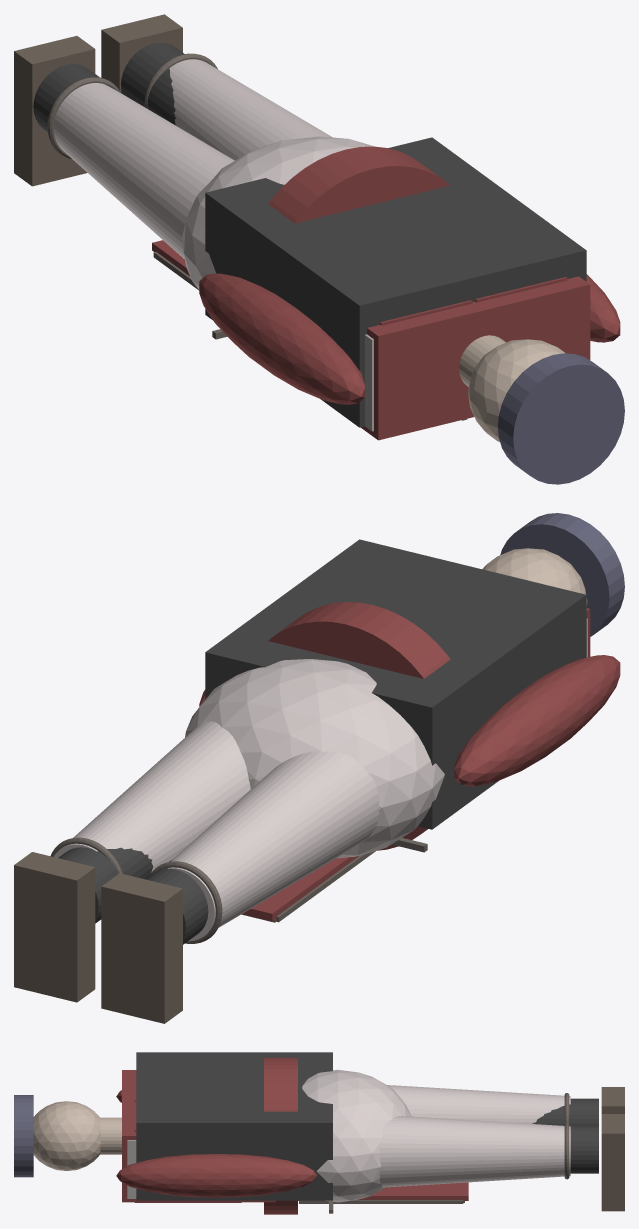
Rendered from MASTER_062_STAGE3_DETAIL.glb.
3 views of the same model, one above another, from view 1: azimuth 30°, elevation 25°; view 2: azimuth 150°, elevation 25°; view 3: azimuth 270°, elevation 25° (orthographic). The views are drawn at different scales.
Parts seen in each view (by area): view 1: slot_outerwear__xhybe, slot_upper_inner__këmishë, slot_lower_main__dimi_L, slot_headwear__mbulesë_koke, slot_upper_inner_sleeve_L, slot_lower_main__dimi_R, slot_waist__brez, slot_footwear__opinga_L, slot_lower_main__dimi_hip, mannequin_head, slot_footwear__opinga_R, slot_legwear__çorape_R (+5 smaller); view 2: slot_outerwear__xhybe, slot_lower_main__dimi_hip, slot_lower_main__dimi_L, slot_lower_main__dimi_R, slot_footwear__opinga_L, slot_footwear__opinga_R, slot_upper_inner_sleeve_L, slot_waist__brez, slot_headwear__mbulesë_koke, mannequin_head, slot_legwear__çorape_R, slot_apron_front__përparëse (+3 smaller); view 3: slot_outerwear__xhybe, slot_lower_main__dimi_R, slot_lower_main__dimi_hip, slot_upper_inner_sleeve_R, slot_lower_main__dimi_L, mannequin_head, slot_waist__brez, slot_footwear__opinga_R, slot_upper_inner__këmishë, slot_headwear__mbulesë_koke, slot_apron_front__përparëse, slot_legwear__çorape_R (+6 smaller).
Boxes of the visible parts, box(x1,y1,x2,y2) form: slot_outerwear__xhybe: box(205, 137, 586, 427); slot_upper_inner__këmishë: box(361, 276, 590, 440); slot_lower_main__dimi_L: box(53, 83, 234, 259); slot_headwear__mbulesë_koke: box(498, 353, 624, 484); slot_upper_inner_sleeve_L: box(199, 273, 365, 404); slot_lower_main__dimi_R: box(169, 59, 332, 160); slot_waist__brez: box(268, 146, 450, 223); slot_footwear__opinga_L: box(14, 36, 95, 186); slot_lower_main__dimi_hip: box(181, 136, 374, 289); mannequin_head: box(468, 339, 565, 441); slot_footwear__opinga_R: box(101, 14, 182, 92); slot_legwear__çorape_R: box(121, 42, 184, 125); slot_outerwear__xhybe: box(205, 539, 586, 829); slot_lower_main__dimi_hip: box(185, 659, 444, 858); slot_lower_main__dimi_L: box(167, 751, 379, 941); slot_lower_main__dimi_R: box(53, 721, 250, 872); slot_footwear__opinga_L: box(101, 873, 182, 1023); slot_footwear__opinga_R: box(14, 852, 95, 1002); slot_upper_inner_sleeve_L: box(454, 655, 620, 786); slot_waist__brez: box(268, 602, 450, 850); slot_headwear__mbulesë_koke: box(500, 513, 624, 636); mannequin_head: box(482, 548, 587, 606); slot_legwear__çorape_R: box(58, 847, 153, 923); slot_apron_front__përparëse: box(242, 855, 359, 921); slot_outerwear__xhybe: box(136, 1052, 332, 1200); slot_lower_main__dimi_R: box(379, 1116, 570, 1187); slot_lower_main__dimi_hip: box(302, 1069, 411, 1202); slot_upper_inner_sleeve_R: box(116, 1154, 316, 1197); slot_lower_main__dimi_L: box(387, 1085, 570, 1123); mannequin_head: box(33, 1101, 100, 1170); slot_waist__brez: box(264, 1057, 297, 1214); slot_footwear__opinga_R: box(601, 1114, 624, 1211); slot_upper_inner__këmishë: box(122, 1070, 275, 1202); slot_headwear__mbulesë_koke: box(14, 1095, 33, 1177); slot_apron_front__përparëse: box(298, 1182, 468, 1200); slot_legwear__çorape_R: box(563, 1125, 598, 1173).
Size of the model in its own units: 0.6482 by 0.44 by 1.71.
